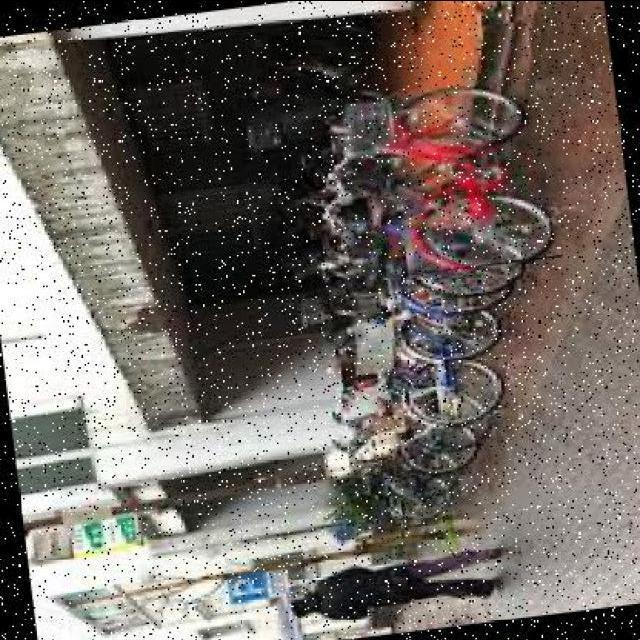bicycle: (323, 17, 565, 283)
